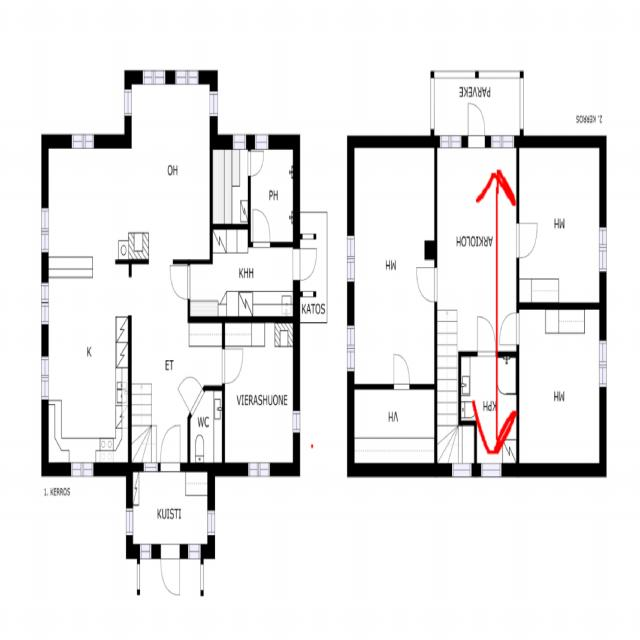door: (178, 365, 205, 417), (161, 543, 179, 594), (161, 425, 180, 472), (293, 248, 317, 280), (477, 317, 496, 357), (468, 104, 485, 148), (417, 267, 438, 301), (516, 223, 537, 257), (252, 210, 270, 247), (222, 350, 242, 383), (170, 266, 190, 299), (499, 312, 519, 345), (393, 354, 409, 389), (248, 152, 263, 175)
